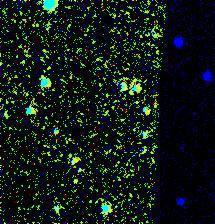star: (115, 78, 145, 108)
